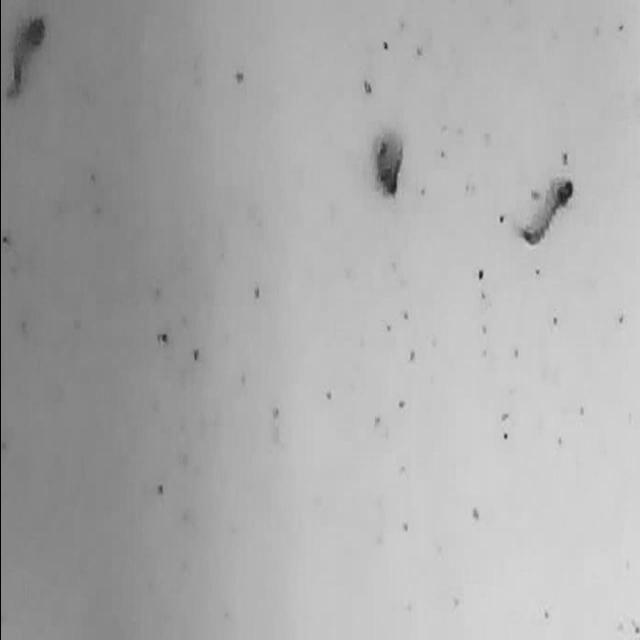larvas: (520, 178, 574, 244), (7, 15, 45, 96), (374, 132, 406, 198)
